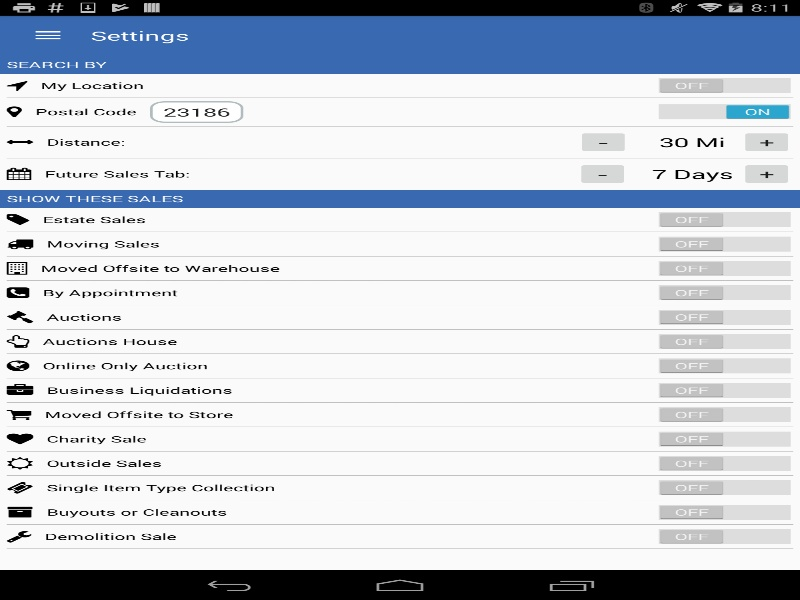Button: (10, 18, 85, 53), (576, 129, 630, 154), (740, 129, 793, 154), (576, 161, 629, 186), (740, 161, 793, 186)
Input: (150, 101, 243, 122)
